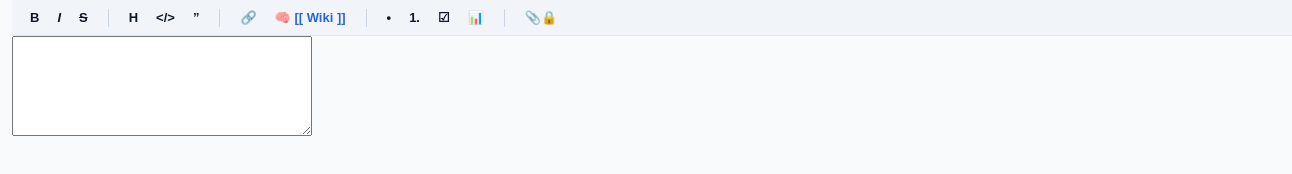
Test case: MarkdownToolbar › shows upload error toast when asset button clicked for private note without secret key
Step 1. Click the button titled "Asset Ekle (image/jpeg, image/png, application/pdf) — Gizli" → (541, 18), box [517,6,565,29]
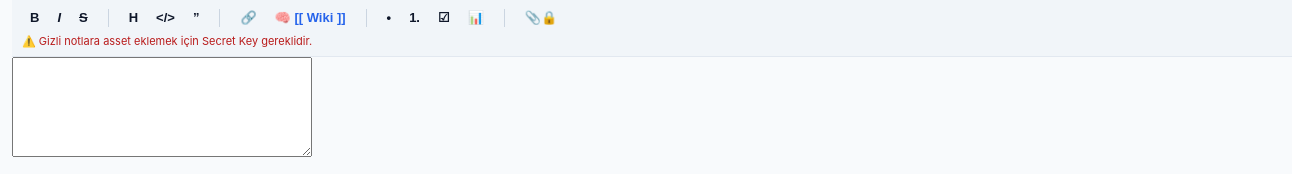
Expected: the text "⚠️ Gizli notlara asset eklemek için Secret Key gereklidir." is shown, [22,34,312,48]
